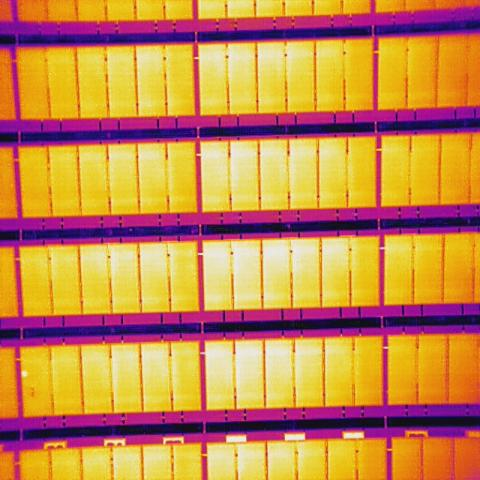fault: (20, 368, 28, 380)
